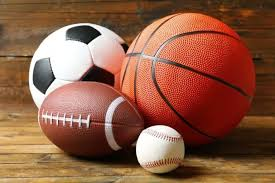football ball: (25, 21, 139, 108)
